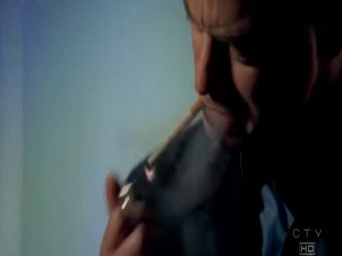smoke: (145, 98, 204, 166)
